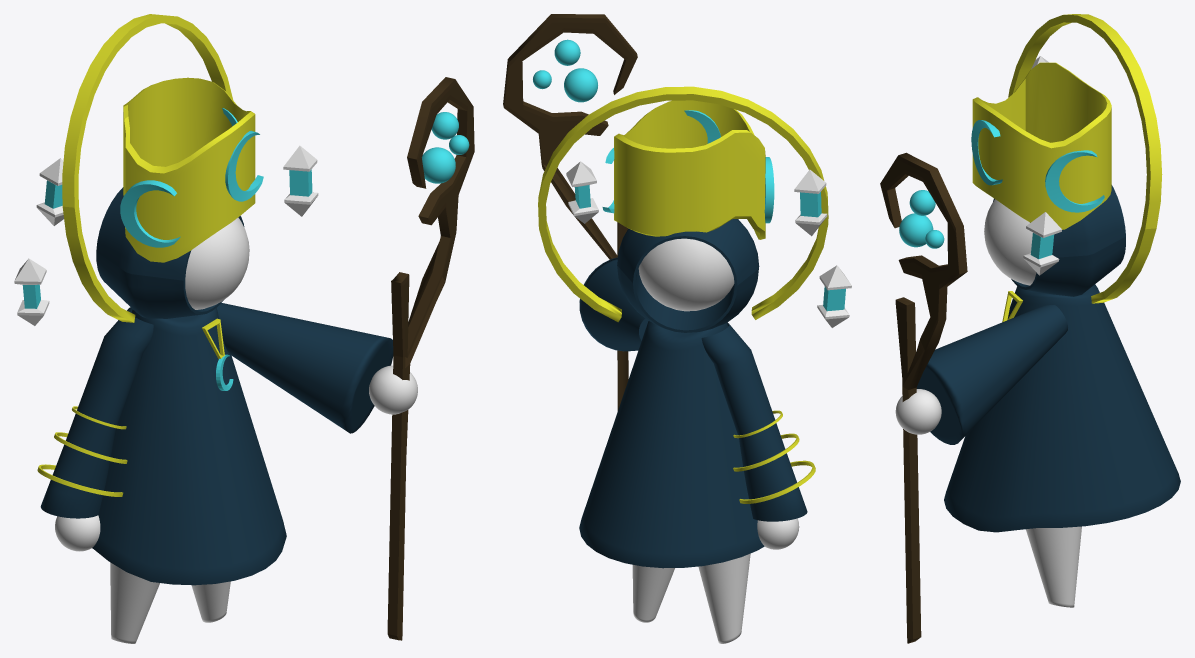
The model's file is GuideCharacter.fbx.
The picture shows the model from 3 angles, left to right: view 1: azimuth 30°, elevation 25°; view 2: azimuth 150°, elevation 25°; view 3: azimuth 270°, elevation 25°; orthographic projection. The views are drawn at different scales.
Parts seen in each view (by area): view 1: Cloths.001, crown.001, staff.001, face ring.001, hood.001, lamps.001, face.001, legs.001, Hands.001, Crown moons.001, orbs.001, Arm Rings.001 (+1 smaller); view 2: Cloths.001, crown.001, face ring.001, staff.001, hood.001, face.001, legs.001, lamps.001, orbs.001, Crown moons.001, Arm Rings.001, Hands.001; view 3: Cloths.001, crown.001, staff.001, face ring.001, hood.001, legs.001, face.001, Crown moons.001, orbs.001, Hands.001, lamps.001.
Part boxes in pixels (x1=…): Cloths.001: x1=40, y1=303, x2=393, y2=585; crown.001: x1=123, y1=77, x2=255, y2=262; staff.001: x1=387, y1=77, x2=474, y2=640; face ring.001: x1=62, y1=14, x2=232, y2=322; hood.001: x1=96, y1=187, x2=244, y2=318; lamps.001: x1=14, y1=145, x2=318, y2=325; face.001: x1=185, y1=217, x2=249, y2=309; legs.001: x1=110, y1=562, x2=230, y2=643; Hands.001: x1=55, y1=365, x2=417, y2=551; Crown moons.001: x1=120, y1=108, x2=263, y2=247; orbs.001: x1=421, y1=112, x2=469, y2=183; Arm Rings.001: x1=37, y1=406, x2=127, y2=496; Cloths.001: x1=579, y1=257, x2=807, y2=568; crown.001: x1=614, y1=100, x2=765, y2=239; face ring.001: x1=538, y1=86, x2=828, y2=322; staff.001: x1=503, y1=14, x2=637, y2=410; hood.001: x1=617, y1=219, x2=759, y2=332; face.001: x1=638, y1=238, x2=734, y2=311; legs.001: x1=632, y1=553, x2=750, y2=643; lamps.001: x1=566, y1=161, x2=851, y2=327; orbs.001: x1=533, y1=39, x2=597, y2=102; Crown moons.001: x1=602, y1=110, x2=774, y2=223; Arm Rings.001: x1=733, y1=410, x2=815, y2=503; Hands.001: x1=757, y1=518, x2=799, y2=549; Cloths.001: x1=917, y1=284, x2=1180, y2=532; crown.001: x1=972, y1=62, x2=1111, y2=229; staff.001: x1=880, y1=152, x2=967, y2=643; face ring.001: x1=1008, y1=14, x2=1162, y2=303; hood.001: x1=993, y1=185, x2=1125, y2=296; legs.001: x1=1026, y1=526, x2=1081, y2=607; face.001: x1=984, y1=199, x2=1036, y2=285; Crown moons.001: x1=971, y1=120, x2=1104, y2=212; orbs.001: x1=899, y1=190, x2=944, y2=248; Hands.001: x1=895, y1=389, x2=941, y2=434; lamps.001: x1=1023, y1=56, x2=1061, y2=275.
Bounding box in the file's own units: 379 × 520 × 253.
